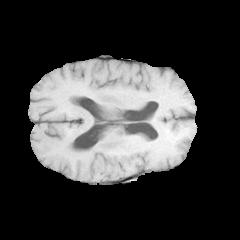glioma: (103, 153, 149, 182)
